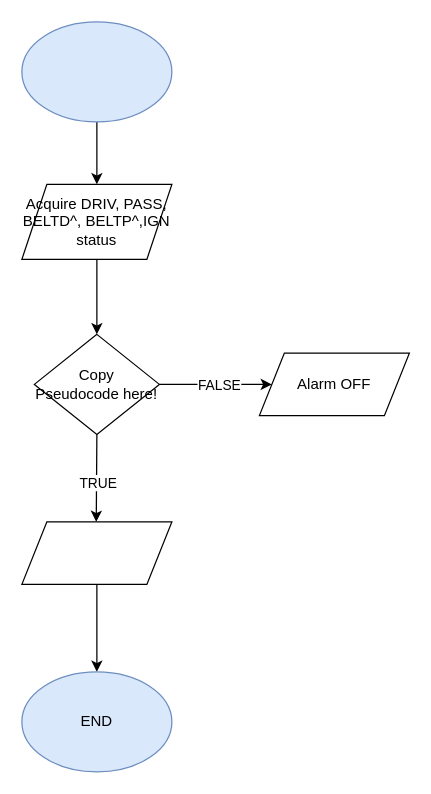
The diagram is 431 pixels wide and 794 high, and some of its shapes have lost their labels. Here are the shapes that lost their labels. From the top down, the centre of each, then its label:
At [96,71]: "Start".
At [96,552]: "Alarm ON".
